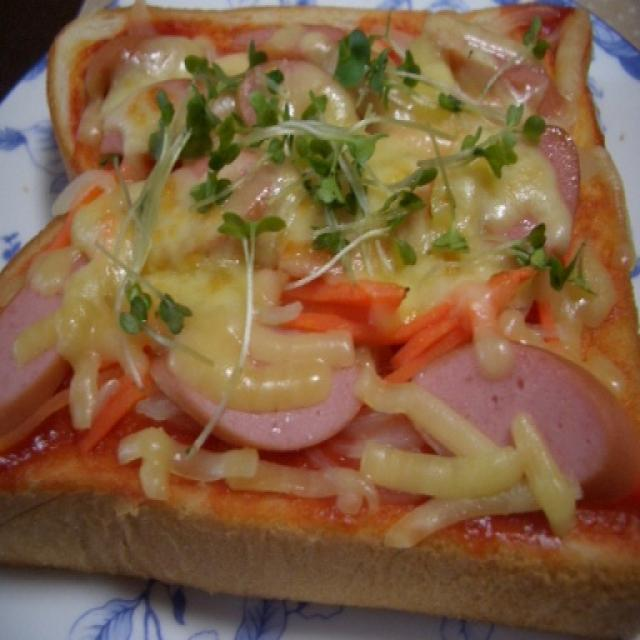面包点心: (4, 11, 630, 626)
